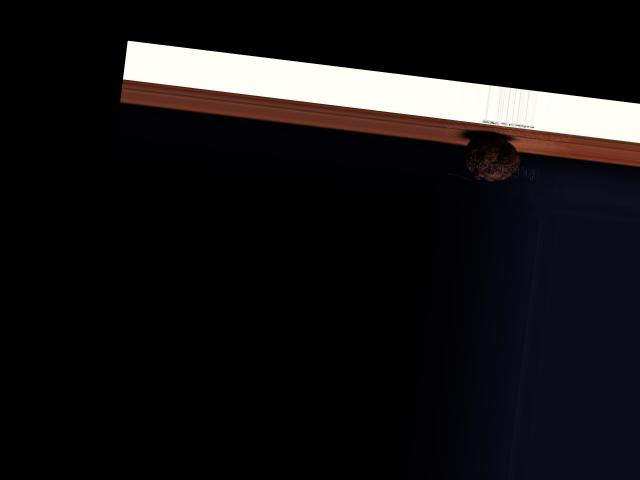beet: (444, 128, 522, 185)
